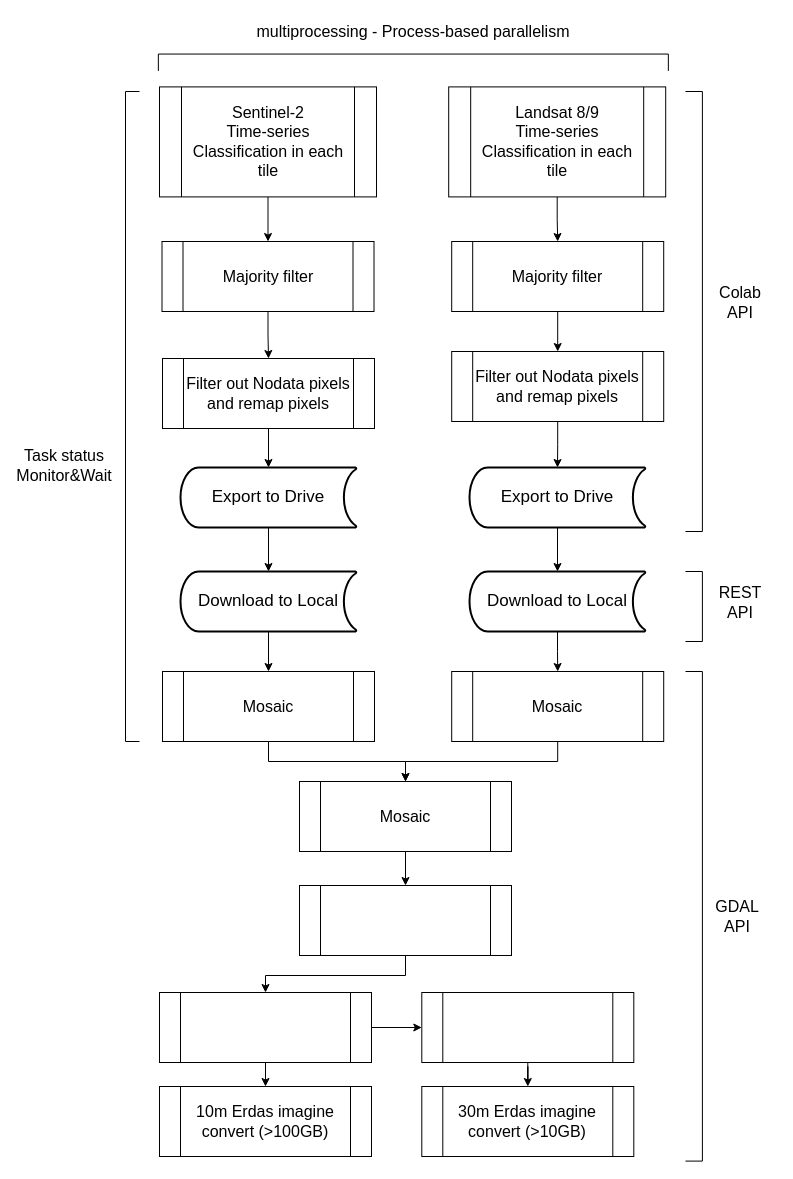
The diagram is 793 pixels wide and 1179 high, and some of its shapes have lost their labels. Each missing label, with the centre of its shape:
"10m COG imagine export (>10GB)" goes at pixel 265 1027.
"30m COG imagine convert (> 1.5 GB)" goes at pixel 527 1027.
"Color table" goes at pixel 405 920.
